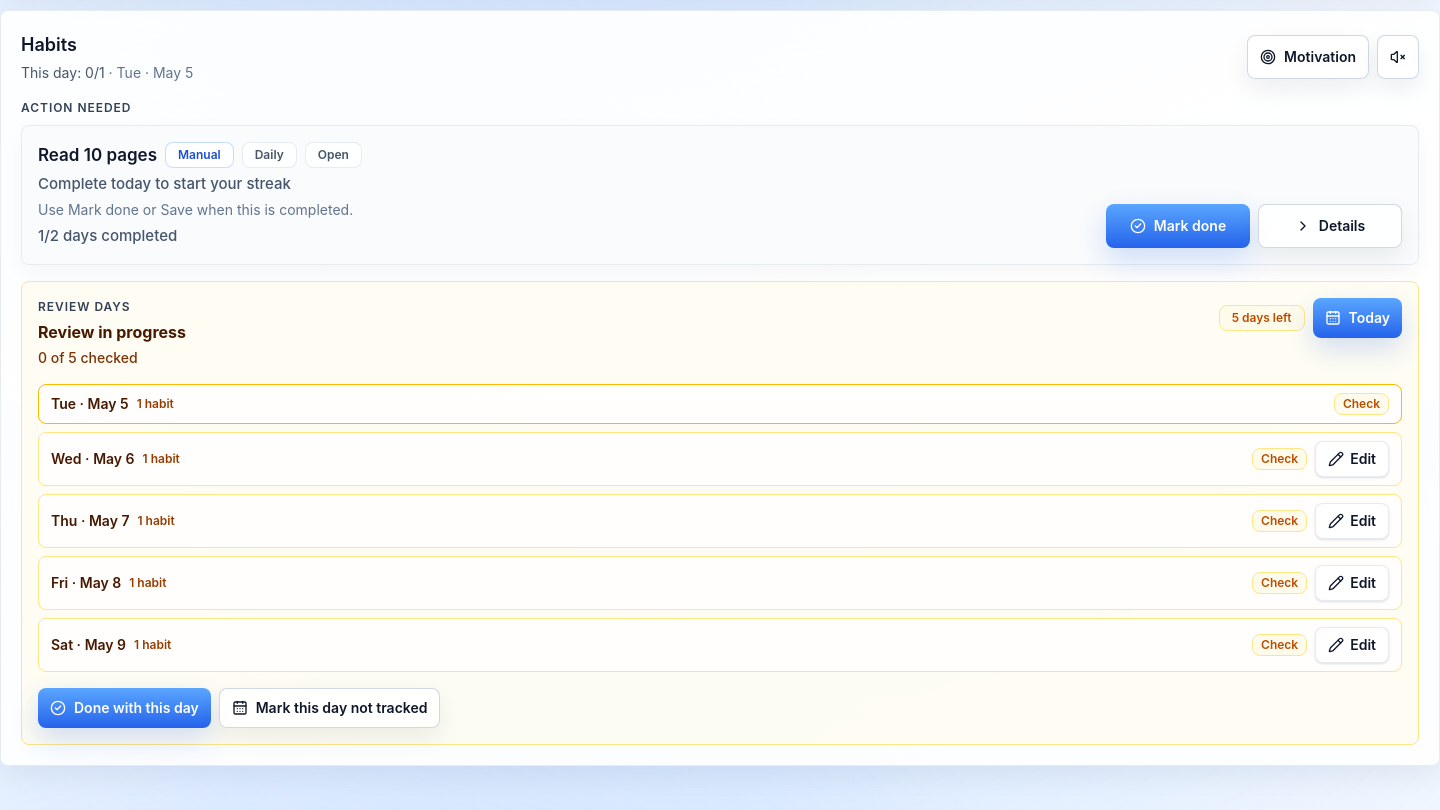
HabitPerfectDayHub › marks one review day not tracked and allows Undo without reopening its review
This screenshot has width=1440, height=810.
(page scrolled)
Step 1. Click the button "Mark this day not tracked" → coordinates (330, 708), box [219, 688, 440, 728]
(page scrolled)
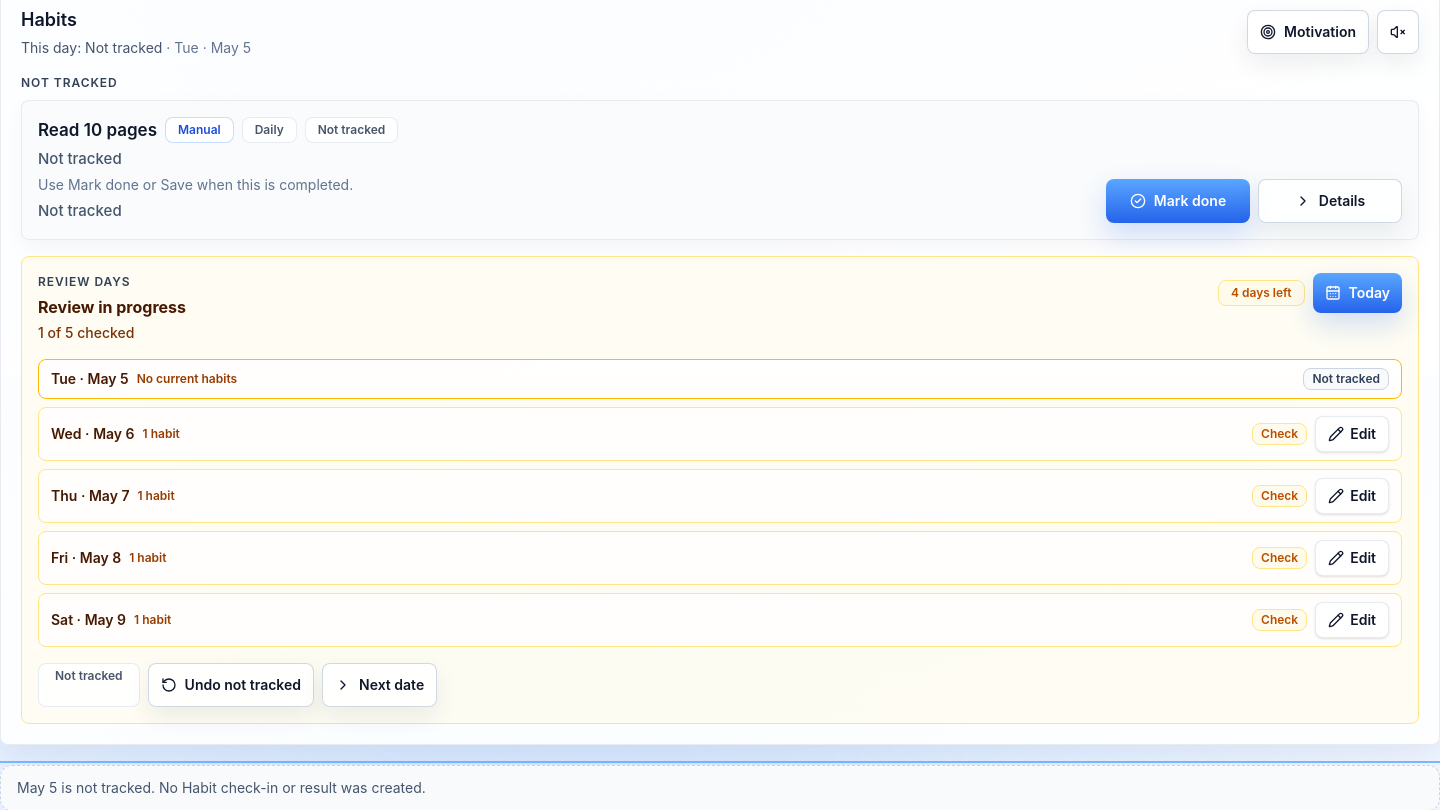
Check: the button "Mark done" is shown, box [1106, 178, 1250, 222]
Check: the button "Undo not tracked" is shown
Check: the list item with test id "habits-absence-review-date-2026-05-05" shows "Not tracked", box [1312, 370, 1380, 386]
Step 2. Click the button "Undo not tracked" → coordinates (231, 684), box [148, 662, 314, 706]
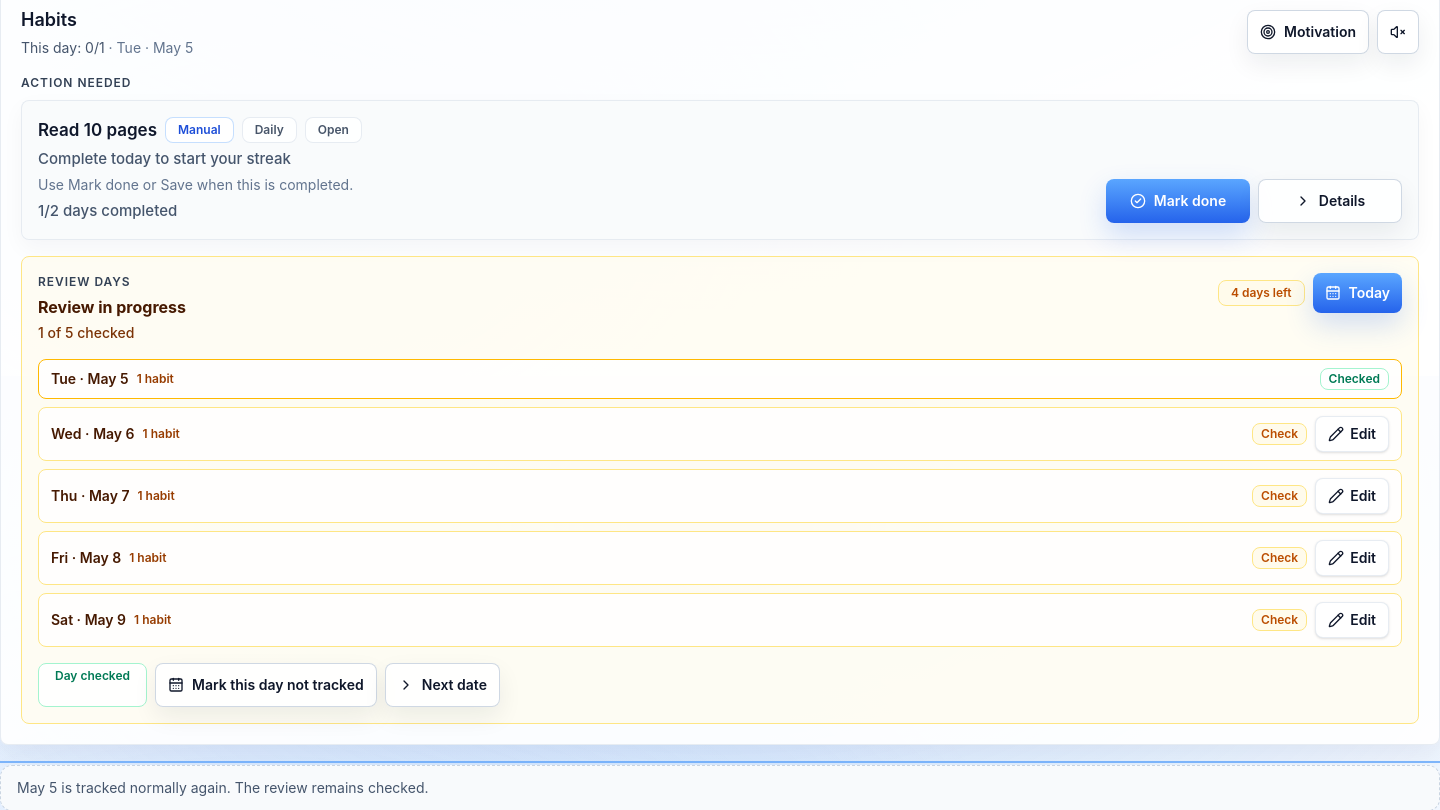
Check: the list item with test id "habits-absence-review-date-2026-05-05" shows "Checked", box [1329, 370, 1380, 386]
Check: the text "Day checked" is shown, box [38, 662, 147, 706]
Check: the message with test id "habits-day-status-notice" shows "The review remains checked.", box [17, 778, 428, 796]
